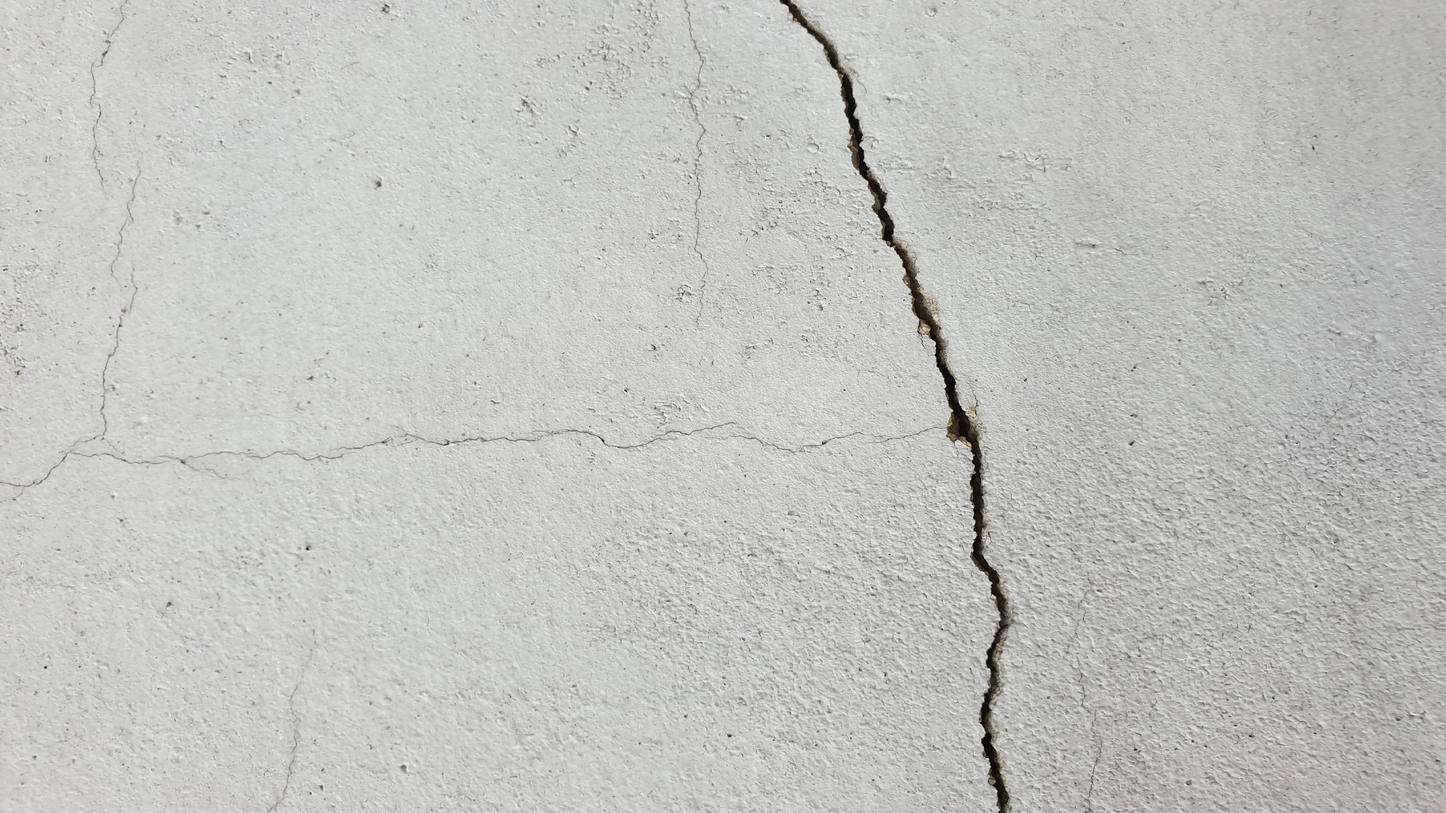crack: (782, 0, 1014, 810)
